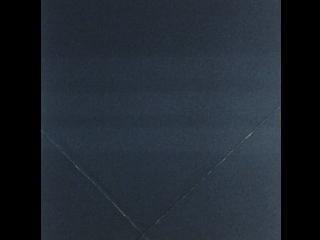crack: (140, 102, 281, 240), (40, 128, 150, 240)
